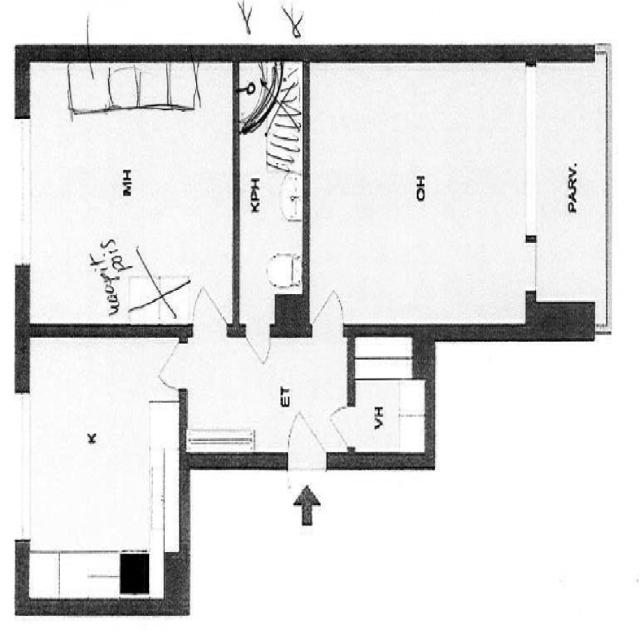door: (285, 408, 329, 474), (149, 332, 187, 397), (188, 279, 227, 337), (311, 285, 348, 334), (241, 322, 274, 368), (326, 402, 358, 448)
window: (12, 384, 38, 548), (12, 110, 37, 272), (526, 56, 537, 290)
zone: (309, 58, 531, 328), (25, 73, 237, 330), (24, 332, 182, 617), (185, 334, 341, 461), (235, 57, 306, 332), (350, 331, 429, 466)
